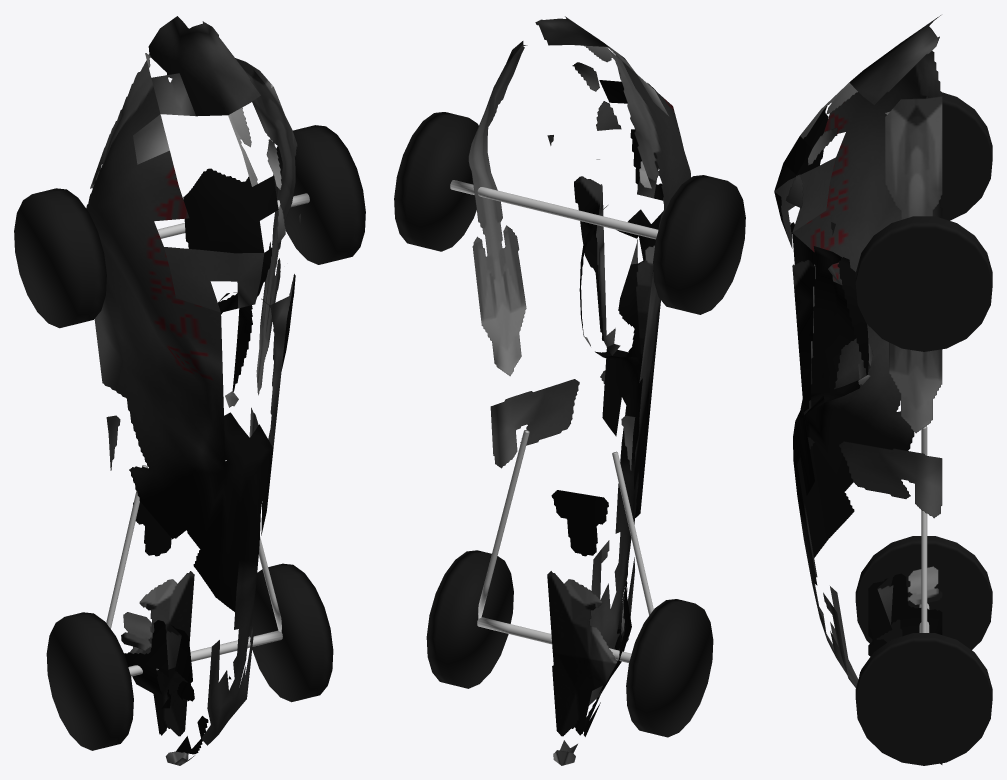
The model's file is karka2.obj.
3 renders of one model, left to right at view 1: azimuth 30°, elevation 25°; view 2: azimuth 150°, elevation 25°; view 3: azimuth 270°, elevation 25°, orthographic.
Visible parts, largest first — view 1: 08_-_Default, 09_-_Default, 10_-_Default; view 2: 08_-_Default, 09_-_Default, 10_-_Default; view 3: 08_-_Default, 09_-_Default, 10_-_Default.
Part boxes in pixels (box(x1,y1,x2,y2)): 08_-_Default: box(86, 16, 300, 765); 09_-_Default: box(14, 125, 365, 750); 10_-_Default: box(106, 193, 309, 676); 08_-_Default: box(468, 16, 690, 765); 09_-_Default: box(394, 112, 745, 737); 10_-_Default: box(450, 180, 658, 663); 08_-_Default: box(774, 15, 942, 764); 09_-_Default: box(855, 92, 992, 765); 10_-_Default: box(919, 426, 929, 632).
Size of the model in its own units: 45.54 by 116 by 30.49.
3 materials, 1 textured.
